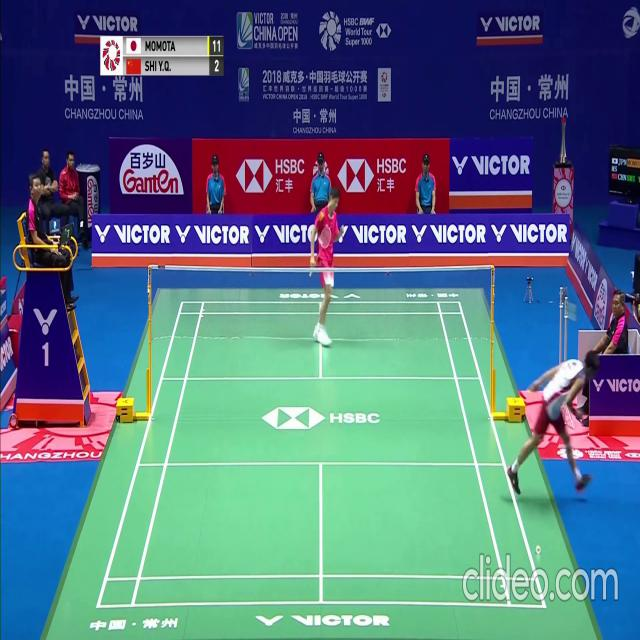Shuttlecock: (537, 544, 542, 552)
